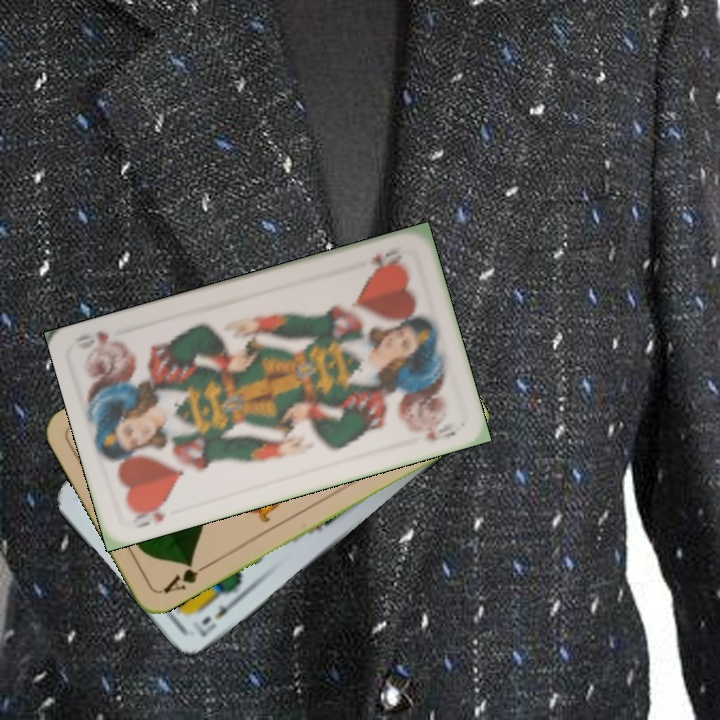EK: (192, 592, 244, 639)
GA: (159, 558, 212, 596)
HO: (128, 497, 171, 532), (365, 242, 405, 272)
